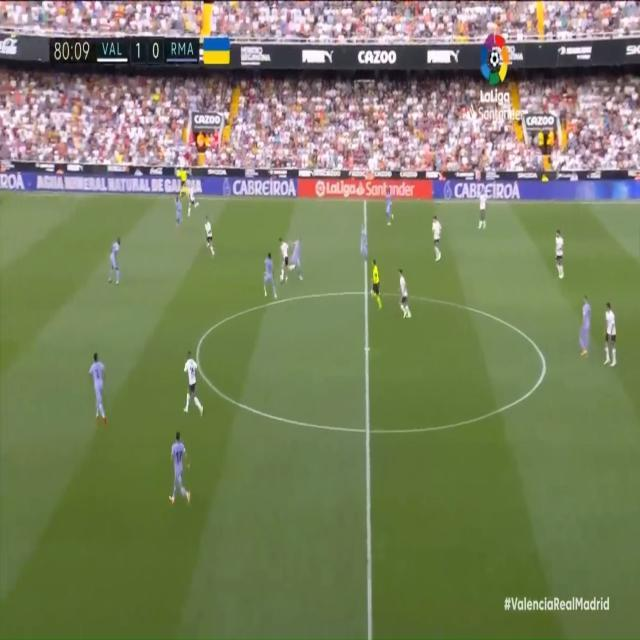ball: (290, 255, 296, 274)
player: (169, 424, 193, 509), (182, 344, 208, 419), (86, 347, 106, 424), (577, 289, 593, 359), (604, 297, 619, 371), (553, 221, 570, 285), (396, 264, 413, 322), (201, 212, 219, 259), (262, 248, 276, 303), (291, 232, 306, 283), (108, 236, 123, 286), (279, 230, 292, 286), (170, 192, 184, 233), (479, 186, 490, 238), (187, 183, 200, 225), (384, 183, 396, 228), (432, 212, 443, 261), (359, 223, 369, 259)
referee: (369, 254, 384, 311), (177, 163, 187, 205)
